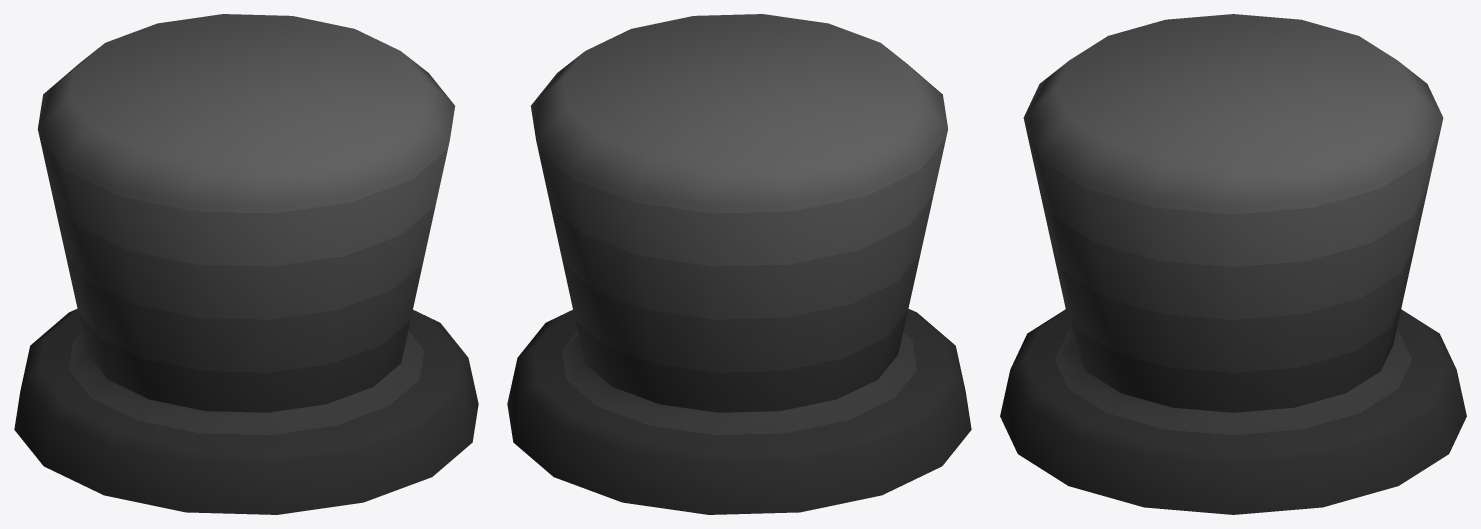
Rendered from gentle-hat.fbx.
3 renders of one model, left to right at view 1: azimuth 30°, elevation 25°; view 2: azimuth 150°, elevation 25°; view 3: azimuth 270°, elevation 25°, orthographic.
Parts seen in each view (by area): view 1: Cylinder.009; view 2: Cylinder.009; view 3: Cylinder.009.
Boxes of the visible parts, x1,y1,x2,y2 form: Cylinder.009: [14, 14, 478, 514]; Cylinder.009: [507, 14, 971, 514]; Cylinder.009: [1000, 14, 1466, 514].
Size of the model in its own units: 114 by 88.97 by 114.
